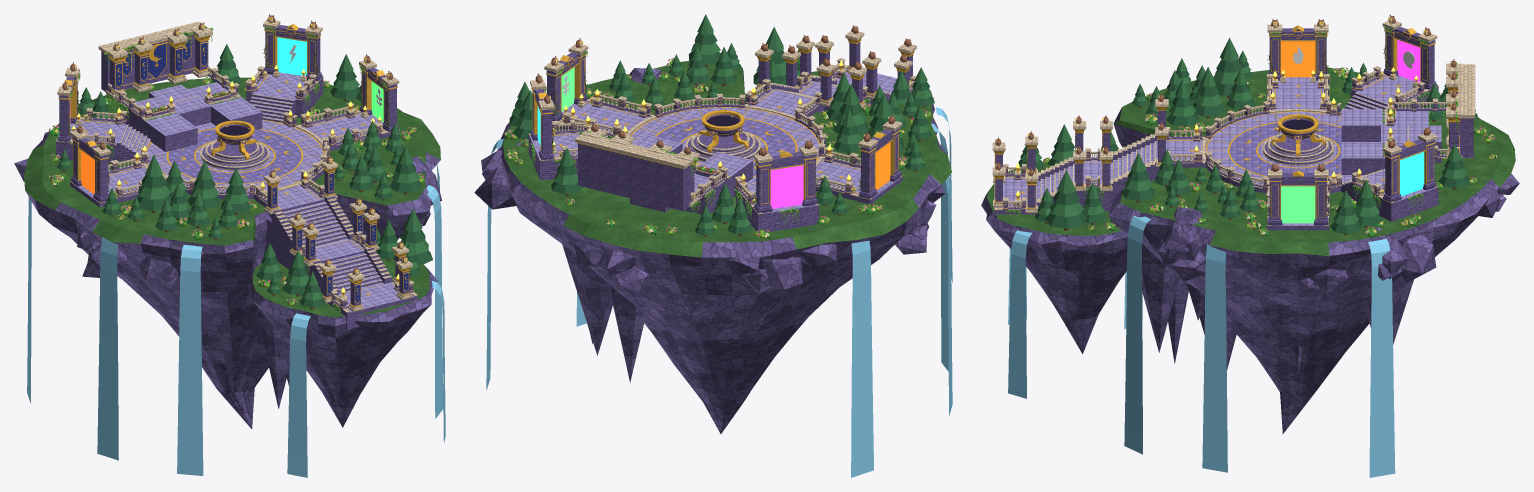
File: Isla_MagOlimpiadas.fbx
3 views of the same model, side by side, from view 1: azimuth 30°, elevation 25°; view 2: azimuth 150°, elevation 25°; view 3: azimuth 270°, elevation 25° (orthographic). The views are drawn at different scales.
Parts seen in each view (by area): view 1: Isla_Roca_Principal, Isla_Roca_Inferior, Isla_Acceso_S, Isla_Terraza_N, Cascada_03, Cascada_02, Isla_Roca_Estalactitas, Isla_Plaza_Decoracion, Cascada_07, Isla_Plaza, Caldero_01, Isla_Plataforma_NE (+34 smaller); view 2: Isla_Roca_Principal, Isla_Roca_Estalactitas, Isla_Terraza_N, Cascada_01, Isla_Plaza, Caldero_01, Isla_Plaza_Decoracion, Portal_Vacio, Isla_Acceso_S, Portal_Fuego, Portal_Naturaleza, Isla_Plataforma_NO (+25 smaller); view 3: Isla_Roca_Principal, Isla_Roca_Estalactitas, Isla_Roca_Inferior, Isla_Terraza_N, Cascada_06, Cascada_05, Isla_Acceso_S, Cascada_04, Isla_Plaza_Decoracion, Isla_Plaza, Cascada_08, Caldero_01 (+22 smaller).
Part boxes in pixels (x1,y1,x2,y2): Isla_Roca_Principal: (24,77,440,428); Isla_Roca_Inferior: (249,258,437,427); Isla_Acceso_S: (254,184,417,329); Isla_Terraza_N: (98,21,262,151); Cascada_03: (177,245,203,475); Cascada_02: (97,230,118,460); Isla_Roca_Estalactitas: (14,131,441,408); Isla_Plaza_Decoracion: (146,119,324,192); Cascada_07: (287,313,310,477); Isla_Plaza: (141,120,324,199); Caldero_01: (200,120,269,170); Isla_Plataforma_NE: (246,72,323,122); Isla_Roca_Principal: (499,61,951,433); Isla_Roca_Estalactitas: (474,68,945,382); Isla_Terraza_N: (575,134,752,214); Cascada_01: (851,240,873,477); Isla_Plaza: (627,105,825,183); Caldero_01: (685,110,761,161); Isla_Plaza_Decoracion: (630,107,820,176); Portal_Vacio: (753,145,818,212); Isla_Acceso_S: (745,65,911,119); Portal_Fuego: (858,121,902,198); Portal_Naturaleza: (544,44,588,120); Isla_Plataforma_NO: (734,183,819,232); Isla_Roca_Principal: (1108,67,1515,433); Isla_Roca_Estalactitas: (1142,173,1519,373); Isla_Roca_Inferior: (981,162,1127,354); Isla_Terraza_N: (1341,64,1475,174); Cascada_06: (1368,239,1395,477); Cascada_05: (1202,244,1227,472); Isla_Acceso_S: (994,132,1205,214); Cascada_04: (1124,216,1150,454); Isla_Plaza_Decoracion: (1205,111,1358,183); Isla_Plaza: (1201,109,1365,193); Cascada_08: (1008,230,1032,398); Caldero_01: (1262,114,1333,165).
Bounding box in the file's own units: 57.28 × 50.53 × 69.98.
